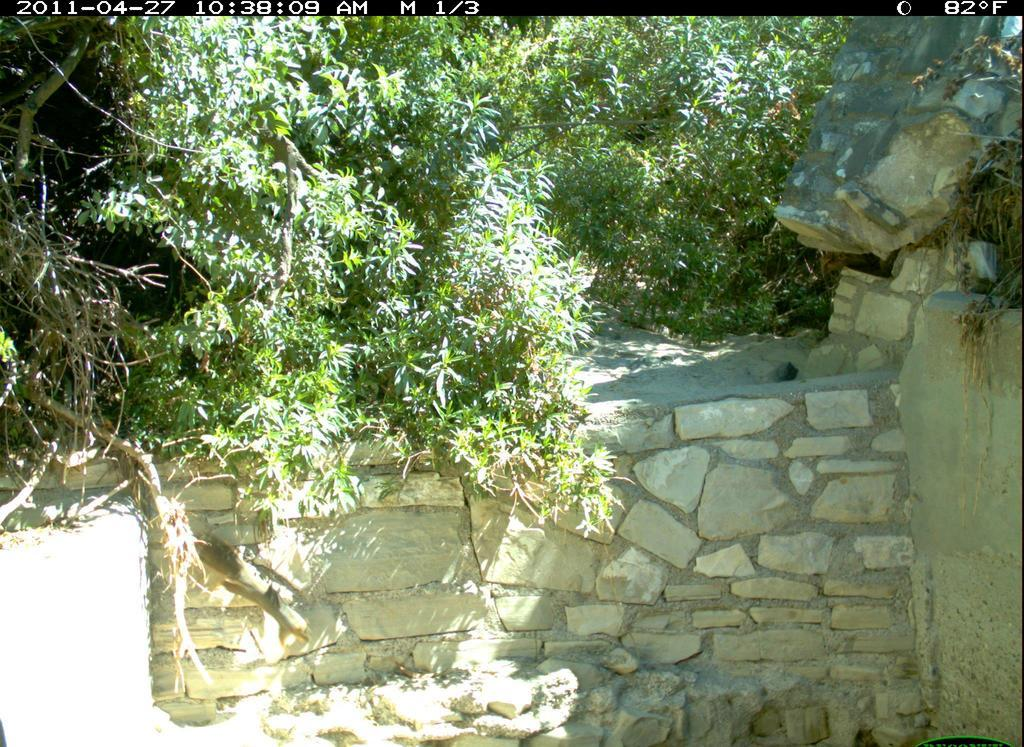squirrel: (167, 492, 344, 673)
